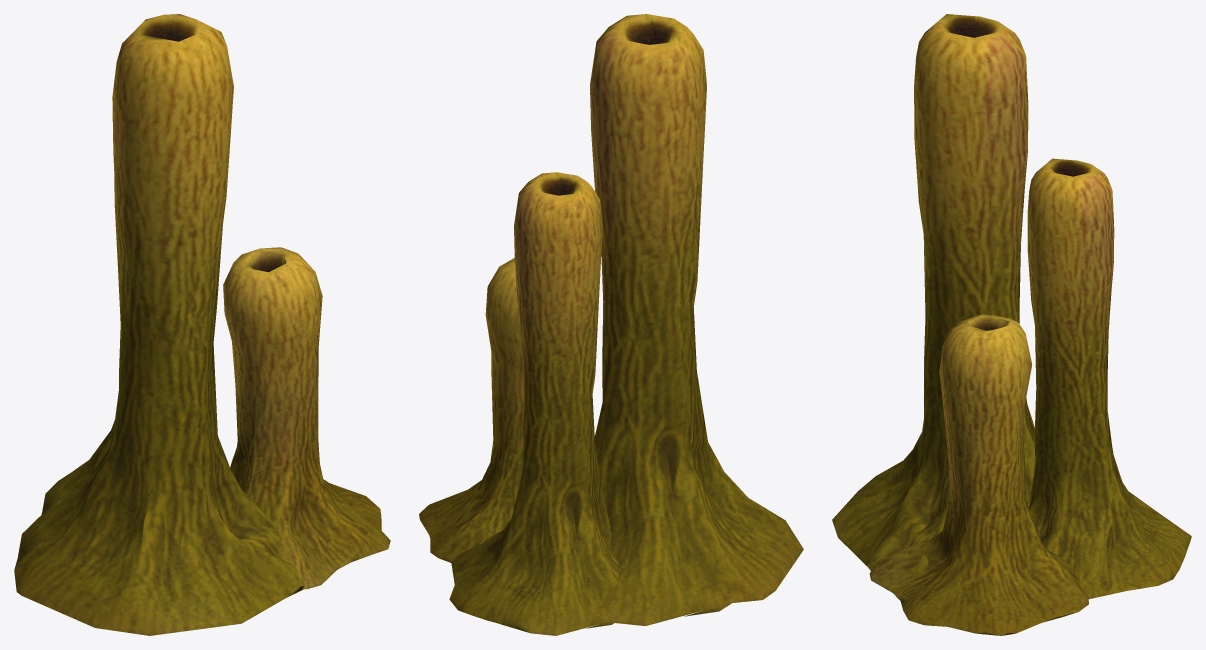
The model's file is Coral V4.fbx.
The picture shows the model from 3 angles, left to right: view 1: azimuth 30°, elevation 25°; view 2: azimuth 150°, elevation 25°; view 3: azimuth 270°, elevation 25°; orthographic projection. The views are drawn at different scales.
Parts seen in each view (by area): view 1: Coral V4; view 2: Coral V4; view 3: Coral V4.
Part boxes in pixels (x1,y1,x2,y2): Coral V4: (14, 14, 390, 635); Coral V4: (419, 14, 803, 635); Coral V4: (832, 14, 1191, 635).
Bounding box in the file's own units: 55.79 × 81.58 × 51.57.
